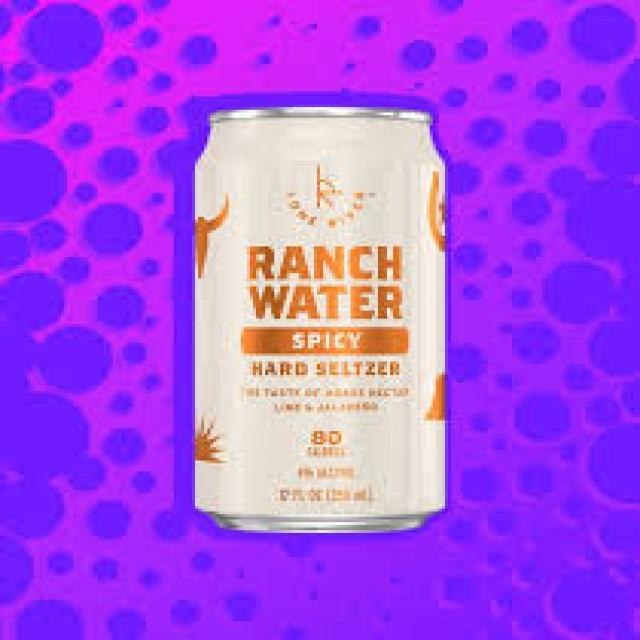Cans: (180, 96, 454, 541)
